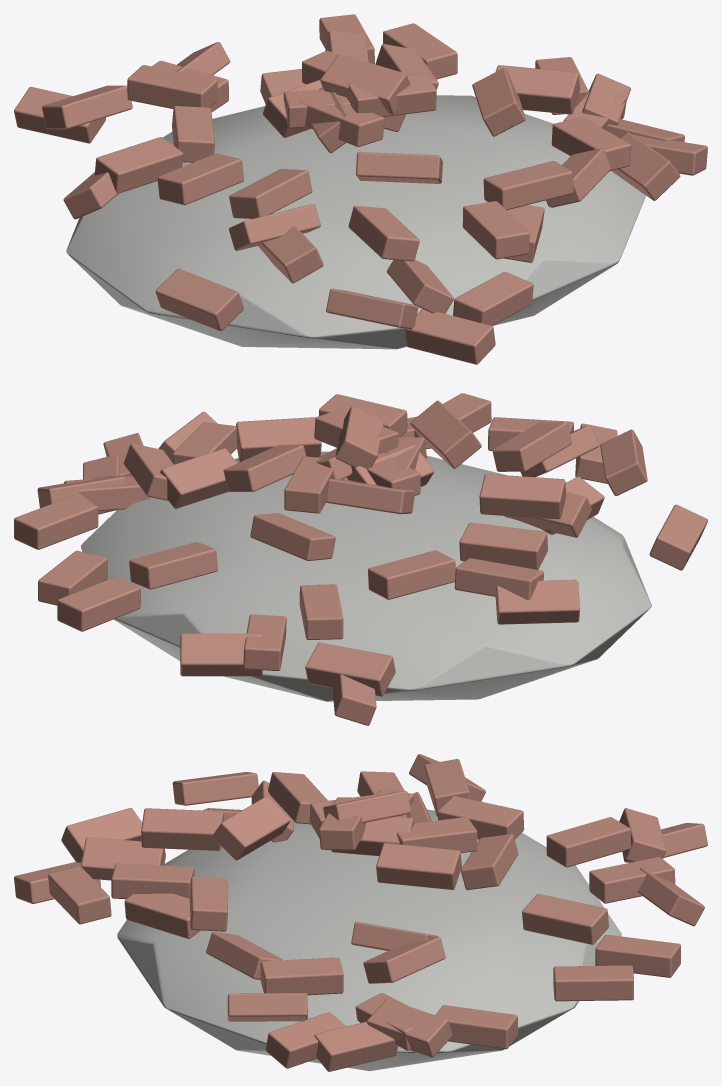
File: SM_Debris_Bricks.fbx
The picture shows the model from 3 angles, top to bottom: view 1: azimuth 30°, elevation 25°; view 2: azimuth 150°, elevation 25°; view 3: azimuth 270°, elevation 25°; orthographic projection. The views are drawn at different scales.
Parts seen in each view (by area): view 1: SM_Debris_Bricks; view 2: SM_Debris_Bricks; view 3: SM_Debris_Bricks.
Boxes of the visible parts, left/top/right/bottom form: SM_Debris_Bricks: left=14, top=14, right=707, bottom=364; SM_Debris_Bricks: left=14, top=393, right=707, bottom=725; SM_Debris_Bricks: left=14, top=754, right=707, bottom=1071.
Bounding box in the file's own units: 1.74 × 0.623 × 1.91.
